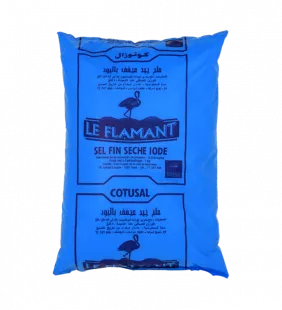LE FLAMANT: (44, 21, 236, 284)
